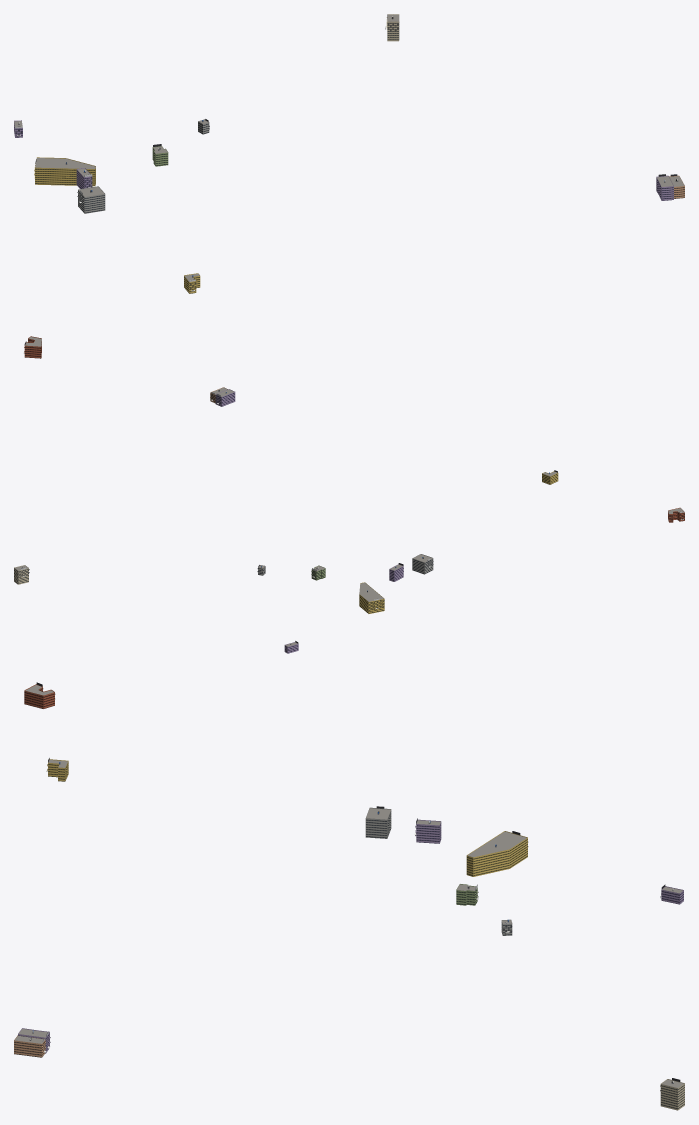
Rendered from hotels-27360-14868.af90efe9.glb.
3 renders of one model, top to bottom at view 1: azimuth 30°, elevation 25°; view 2: azimuth 150°, elevation 25°; view 3: azimuth 270°, elevation 25°, orthographic. The views are drawn at different scales.
Bounding box in the file's own units: 1073 × 119 × 824.
4 materials, 2 textured.
